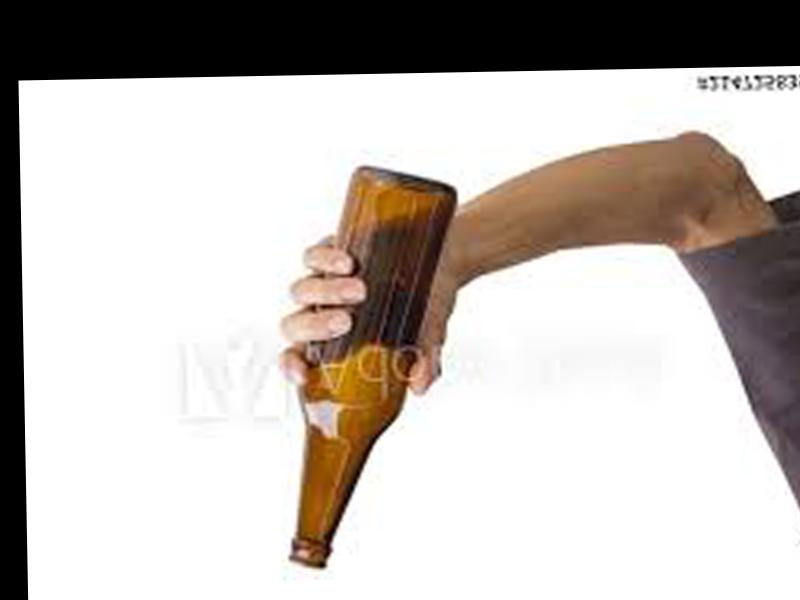Beer: (278, 164, 464, 570)
